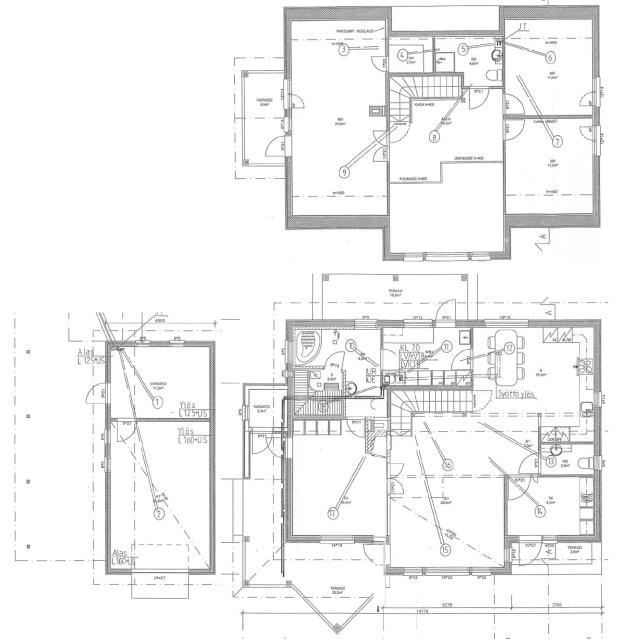door: (517, 537, 543, 566), (250, 429, 276, 457), (433, 298, 458, 327), (262, 133, 288, 159), (83, 380, 109, 406), (362, 538, 386, 566), (502, 117, 527, 143), (506, 476, 532, 501), (502, 91, 527, 116), (467, 86, 491, 111), (386, 468, 406, 496), (450, 348, 472, 372), (380, 346, 401, 370), (116, 418, 137, 442), (390, 122, 411, 144), (387, 460, 406, 484), (518, 454, 539, 475), (472, 390, 492, 412), (369, 54, 390, 73), (346, 417, 364, 438), (576, 90, 596, 108), (324, 351, 343, 369), (578, 124, 597, 141), (288, 93, 307, 109), (372, 146, 390, 162)
window: (424, 249, 473, 263), (424, 564, 471, 578), (483, 318, 532, 330), (316, 533, 358, 546), (281, 74, 293, 103), (400, 565, 426, 577), (468, 250, 493, 262), (402, 251, 426, 263), (590, 72, 602, 96), (283, 110, 294, 136), (284, 337, 293, 368), (403, 320, 433, 329), (353, 320, 378, 330), (101, 427, 112, 448), (149, 338, 170, 349), (103, 455, 113, 476), (168, 338, 186, 349), (241, 403, 251, 422), (594, 453, 604, 472), (593, 390, 603, 409), (504, 546, 513, 564)
zone: (388, 76, 505, 255), (289, 12, 386, 223), (110, 419, 213, 573), (289, 417, 385, 542), (392, 475, 508, 565), (477, 328, 596, 413), (503, 117, 598, 217), (505, 19, 595, 119), (113, 344, 214, 419), (506, 476, 596, 540), (384, 326, 472, 385), (242, 69, 287, 164), (324, 326, 382, 395), (435, 36, 504, 86), (539, 442, 597, 476), (245, 386, 288, 431), (388, 36, 434, 75), (538, 411, 596, 441), (494, 612, 549, 640), (298, 367, 342, 398), (291, 326, 322, 367), (68, 309, 105, 342), (366, 420, 389, 456)
